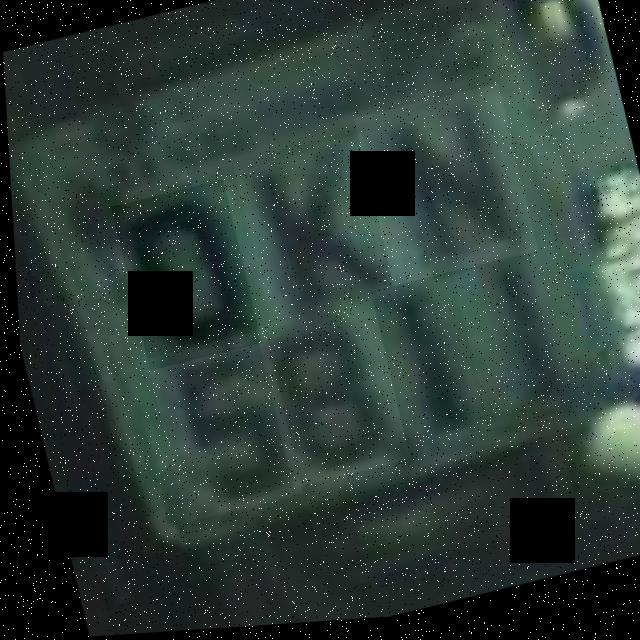1: (365, 276, 483, 449)
5: (142, 332, 297, 525)
8: (250, 302, 405, 492)
K: (229, 136, 396, 329)
N: (350, 88, 535, 292)
O: (106, 180, 258, 373)
